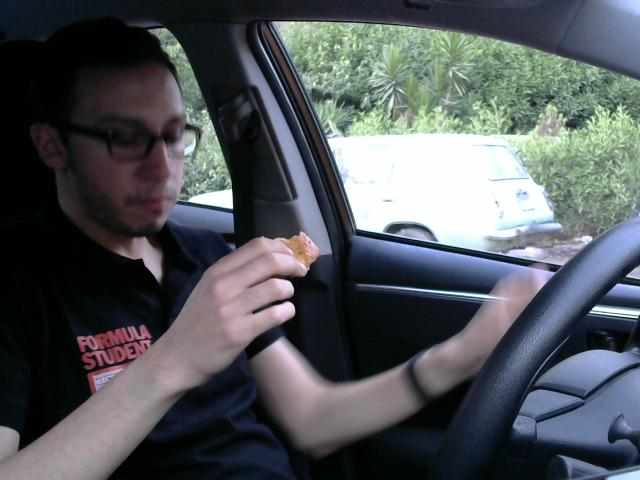Eating: (270, 224, 323, 275)
